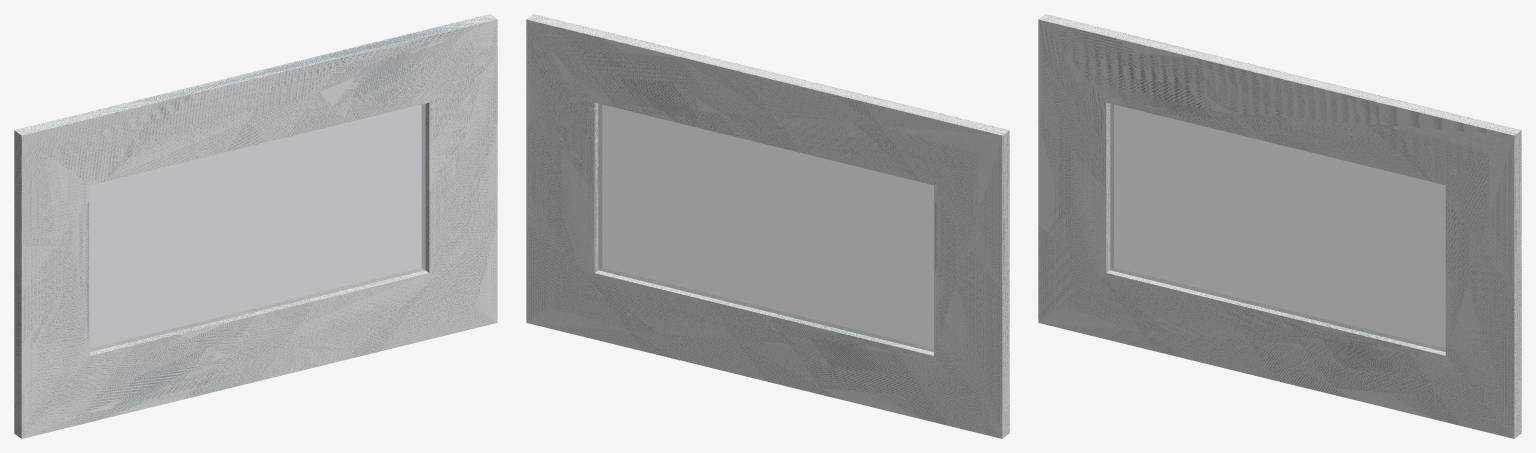
The picture shows the model from 3 angles, left to right: view 1: azimuth 30°, elevation 25°; view 2: azimuth 150°, elevation 25°; view 3: azimuth 330°, elevation 25°; orthographic projection.
Parts seen in each view (by area): view 1: Group1, Group2, Group4; view 2: Group1, Group2, Group4; view 3: Group1, Group2, Group4.
Boxes of the visible parts, bbox=[...] form: Group1: bbox=[14, 14, 497, 438]; Group2: bbox=[90, 104, 425, 351]; Group4: bbox=[90, 104, 425, 351]; Group1: bbox=[526, 14, 1009, 438]; Group2: bbox=[598, 104, 933, 351]; Group4: bbox=[598, 104, 933, 351]; Group1: bbox=[1038, 14, 1521, 438]; Group2: bbox=[1110, 104, 1445, 351]; Group4: bbox=[1110, 104, 1445, 351].
Bounding box in the file's own units: 450 × 274 × 12.33.
